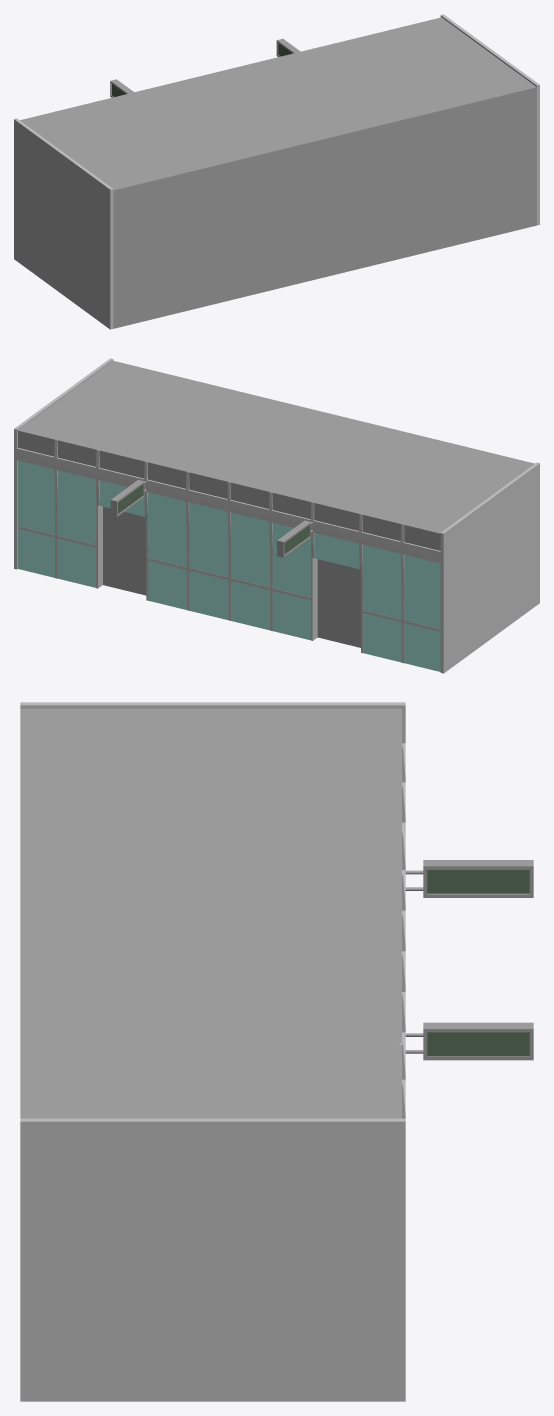
The model's file is Shop_A.fbx.
The picture shows the model from 3 angles, top to bottom: view 1: azimuth 30°, elevation 25°; view 2: azimuth 150°, elevation 25°; view 3: azimuth 270°, elevation 25°; orthographic projection. The views are drawn at different scales.
Visible parts, largest first — view 1: Shop_A; view 2: Shop_A; view 3: Shop_A.
Boxes of the visible parts, left/top/right/bottom form: Shop_A: left=14, top=14, right=539, bottom=329; Shop_A: left=14, top=358, right=539, bottom=673; Shop_A: left=20, top=702, right=533, bottom=1401.
Bounding box in the file's own units: 26 × 8.1 × 13.44.
